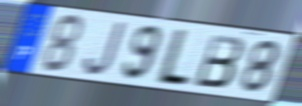8: (39, 12, 86, 75), (238, 39, 282, 95)
9: (121, 24, 163, 83)
B: (192, 32, 247, 90)
J: (82, 20, 128, 78)
L: (151, 27, 193, 89)
